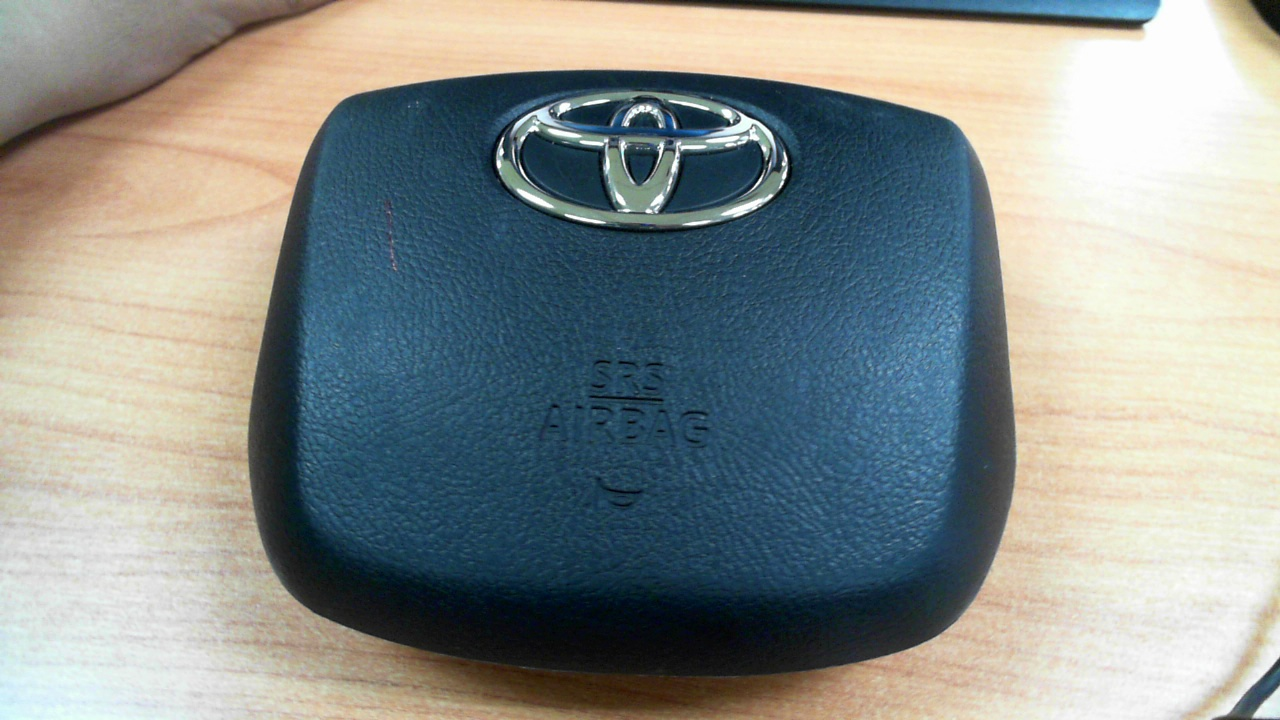Airbag: (248, 72, 1015, 680)
Toyota: (495, 88, 788, 228)
